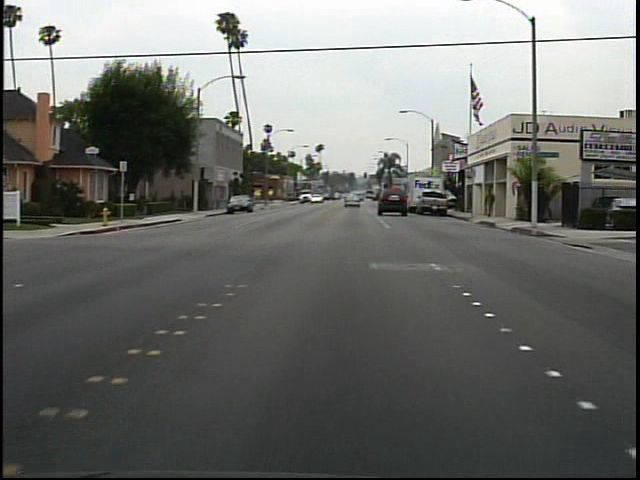person: (481, 186, 500, 220)
